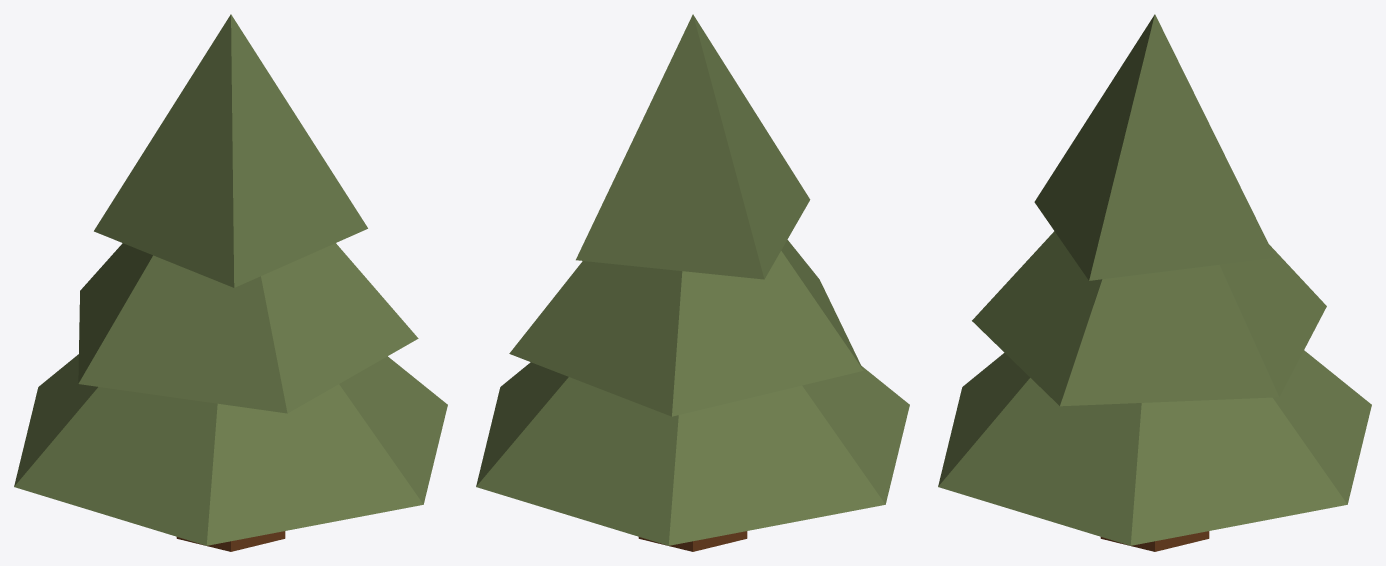
The model's file is tree2.glb.
The picture shows the model from 3 angles, left to right: view 1: azimuth 30°, elevation 25°; view 2: azimuth 150°, elevation 25°; view 3: azimuth 270°, elevation 25°; orthographic projection.
Visible parts, largest first — view 1: Plane; view 2: Plane; view 3: Plane.
Boxes of the visible parts, bbox=[...] form: Plane: bbox=[14, 14, 447, 551]; Plane: bbox=[476, 14, 909, 551]; Plane: bbox=[938, 14, 1371, 551].
Size of the model in its own units: 3.77 by 4.5 by 3.46.
